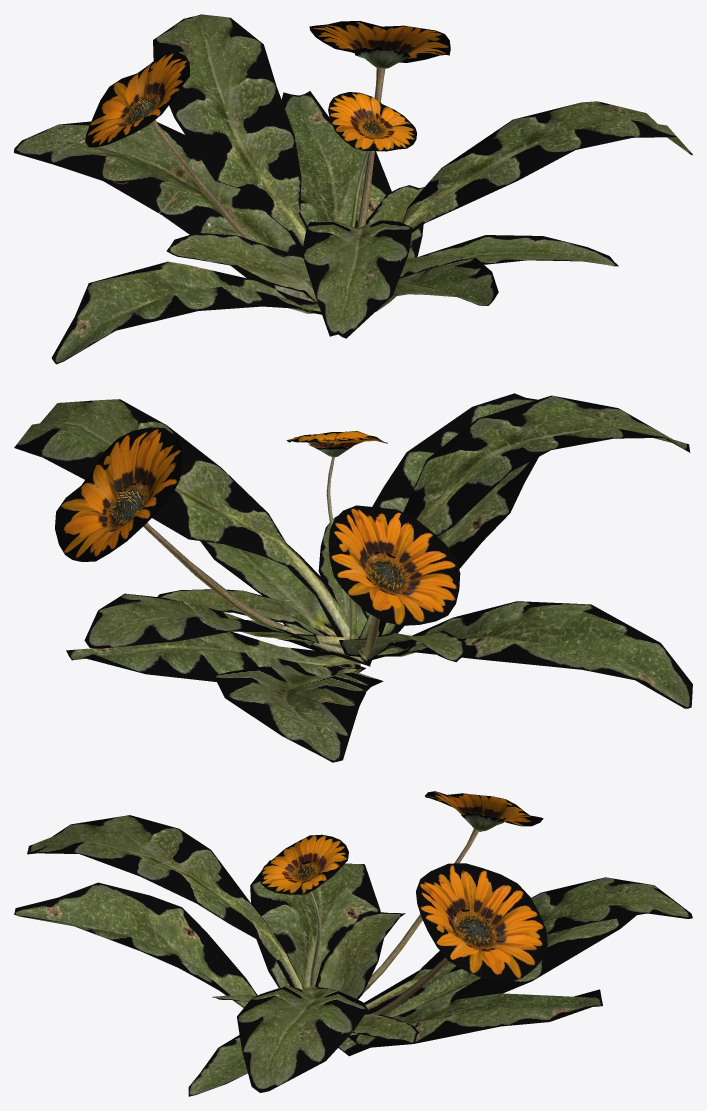
The model's file is flower_gazania_5.gltf.
The picture shows the model from 3 angles, top to bottom: view 1: azimuth 30°, elevation 25°; view 2: azimuth 150°, elevation 25°; view 3: azimuth 270°, elevation 25°; orthographic projection. The views are drawn at different scales.
Parts seen in each view (by area): view 1: flower_gazania_f_LOD0; view 2: flower_gazania_f_LOD0; view 3: flower_gazania_f_LOD0.
Boxes of the visible parts, left/top/right/bottom form: flower_gazania_f_LOD0: left=14, top=14, right=692, bottom=364; flower_gazania_f_LOD0: left=14, top=393, right=692, bottom=762; flower_gazania_f_LOD0: left=14, top=791, right=692, bottom=1096.
Bounding box in the file's own units: 0.3123 × 0.1099 × 0.3069.
Materials: 1 (1 with a texture image).
